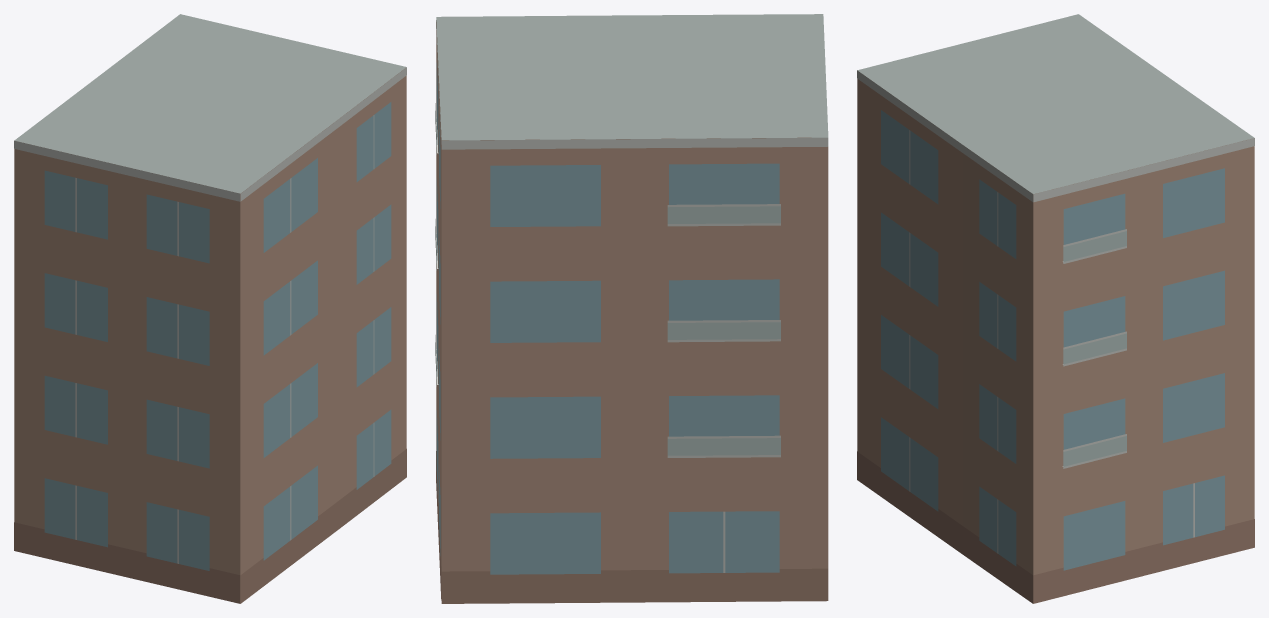
Rendered from residential-494fd5ea-33fb-4405-a461-d19b79b7f3b5.glb.
3 views of the same model, side by side, from view 1: azimuth 30°, elevation 25°; view 2: azimuth 150°, elevation 25°; view 3: azimuth 270°, elevation 25° (orthographic). The views are drawn at different scales.
Parts seen in each view (by area): view 1: residential-494fd5ea-33fb-4405-a461-d19b79b7f3b5.tmp; view 2: residential-494fd5ea-33fb-4405-a461-d19b79b7f3b5.tmp; view 3: residential-494fd5ea-33fb-4405-a461-d19b79b7f3b5.tmp.
Part boxes in pixels (x1,y1,x2,y2): residential-494fd5ea-33fb-4405-a461-d19b79b7f3b5.tmp: [14, 14, 406, 603]; residential-494fd5ea-33fb-4405-a461-d19b79b7f3b5.tmp: [435, 14, 828, 603]; residential-494fd5ea-33fb-4405-a461-d19b79b7f3b5.tmp: [857, 14, 1254, 603].
Size of the model in its own units: 11.52 by 12.2 by 10.74.
